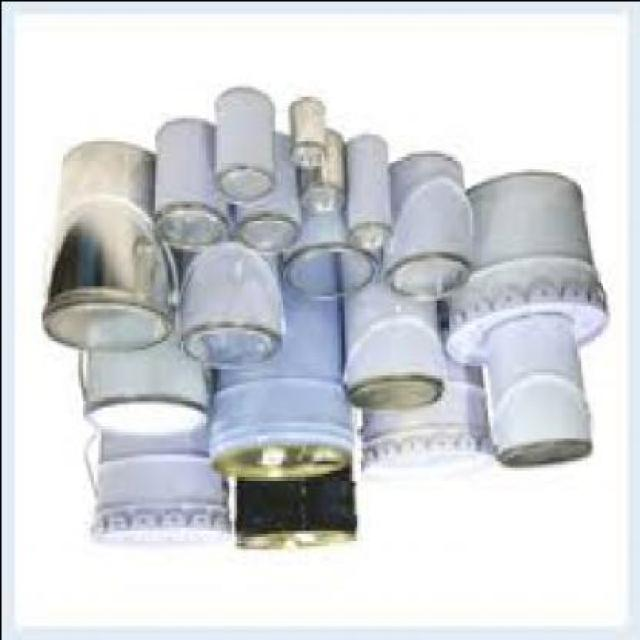METAL: (207, 263, 353, 479), (443, 174, 605, 368), (36, 142, 170, 352), (341, 184, 441, 408), (356, 345, 486, 478), (484, 311, 588, 469), (279, 129, 372, 305), (87, 430, 225, 544), (72, 339, 205, 438), (177, 244, 281, 370), (384, 152, 470, 297), (230, 466, 353, 548), (148, 121, 228, 247), (233, 133, 295, 250), (210, 92, 272, 206), (294, 136, 346, 210), (286, 98, 323, 162)
